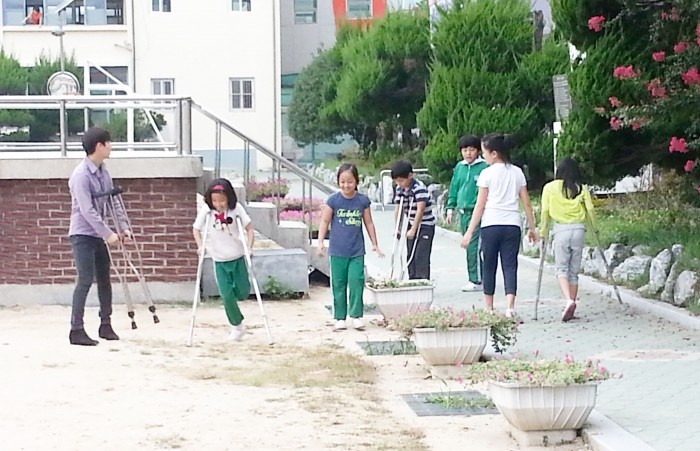crutches: (67, 128, 159, 345), (531, 158, 623, 322), (186, 179, 272, 347), (388, 162, 436, 281)
